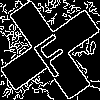F: (25, 25, 77, 81)
